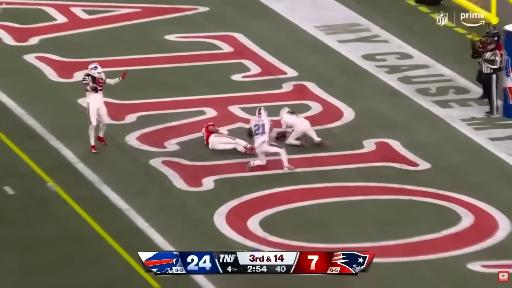Helmet: (88, 63, 103, 78), (256, 107, 267, 118), (280, 108, 290, 117), (207, 122, 212, 126)
Jersey: (82, 74, 120, 101), (82, 74, 104, 101), (250, 118, 271, 146), (281, 114, 310, 128), (203, 124, 215, 146)
Player: (82, 63, 126, 153), (247, 107, 294, 171), (279, 108, 325, 145), (202, 123, 254, 154)
